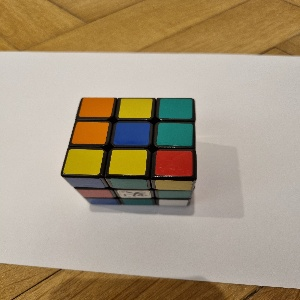cube: (60, 97, 199, 207)
